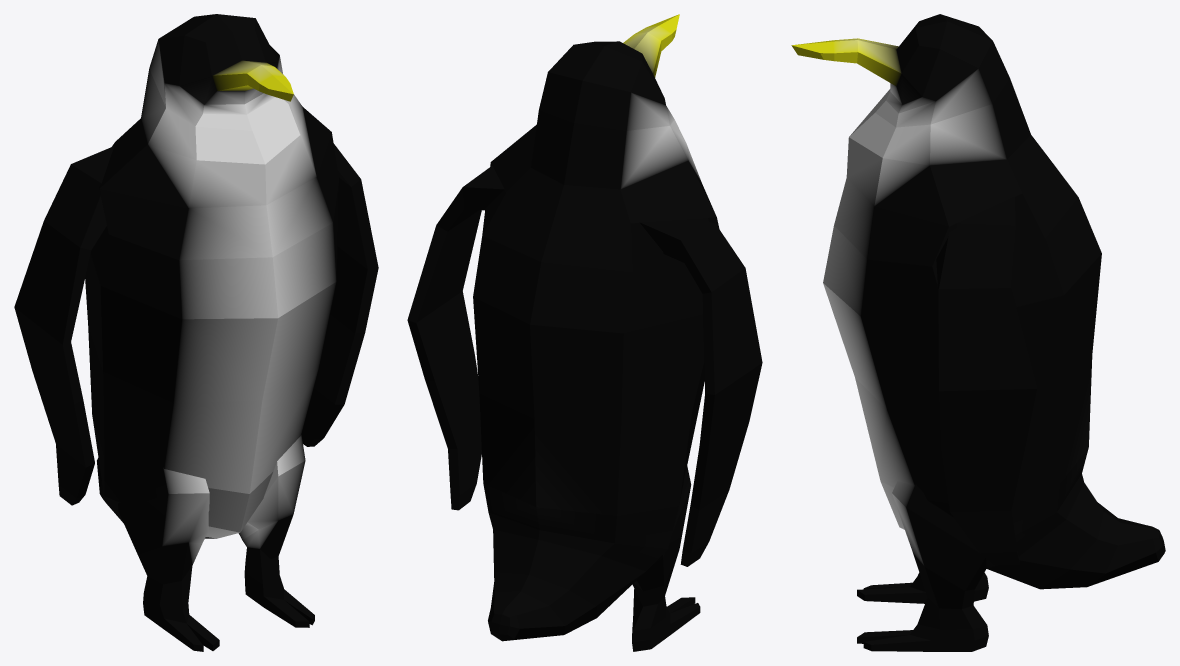
The model's file is Penguin.glb.
The picture shows the model from 3 angles, left to right: view 1: azimuth 30°, elevation 25°; view 2: azimuth 150°, elevation 25°; view 3: azimuth 270°, elevation 25°; orthographic projection. The views are drawn at different scales.
Visible parts, largest first — view 1: body, rightarm, rightfoot, leftarm, leftfoot; view 2: body, rightarm, leftarm, tail, rightfoot; view 3: body, leftarm, leftfoot, tail, rightfoot.
Part boxes in pixels (<box>): body: <box>85,14,339,538</box>; rightarm: <box>14,146,113,505</box>; rightfoot: <box>118,467,219,651</box>; leftarm: <box>301,143,378,446</box>; leftfoot: <box>238,434,314,627</box>; body: <box>473,14,719,571</box>; rightarm: <box>639,218,762,566</box>; leftarm: <box>407,165,504,510</box>; tail: <box>488,529,645,641</box>; rightfoot: <box>632,465,700,651</box>; body: <box>791,14,1101,568</box>; leftarm: <box>936,196,1037,564</box>; leftfoot: <box>857,481,988,651</box>; tail: <box>986,483,1165,589</box>; rightfoot: <box>857,572,988,603</box>.
Bounding box in the file's own units: 0.3214 × 0.5792 × 0.3267.
